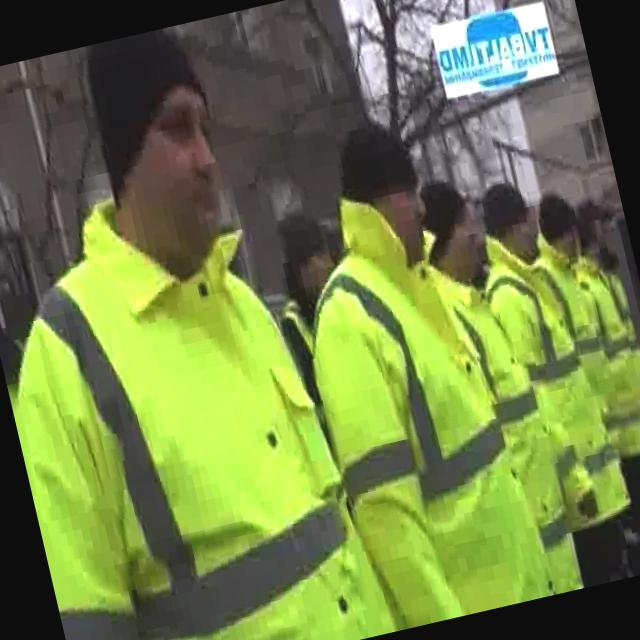vest: (0, 149, 398, 640), (271, 169, 555, 636), (421, 243, 585, 606), (472, 214, 635, 538), (524, 228, 636, 466), (574, 244, 640, 458)
